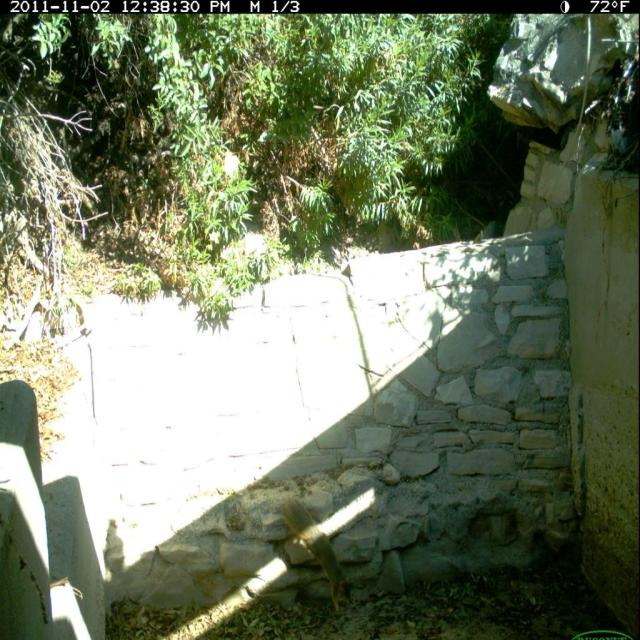squirrel: (278, 496, 356, 619)
